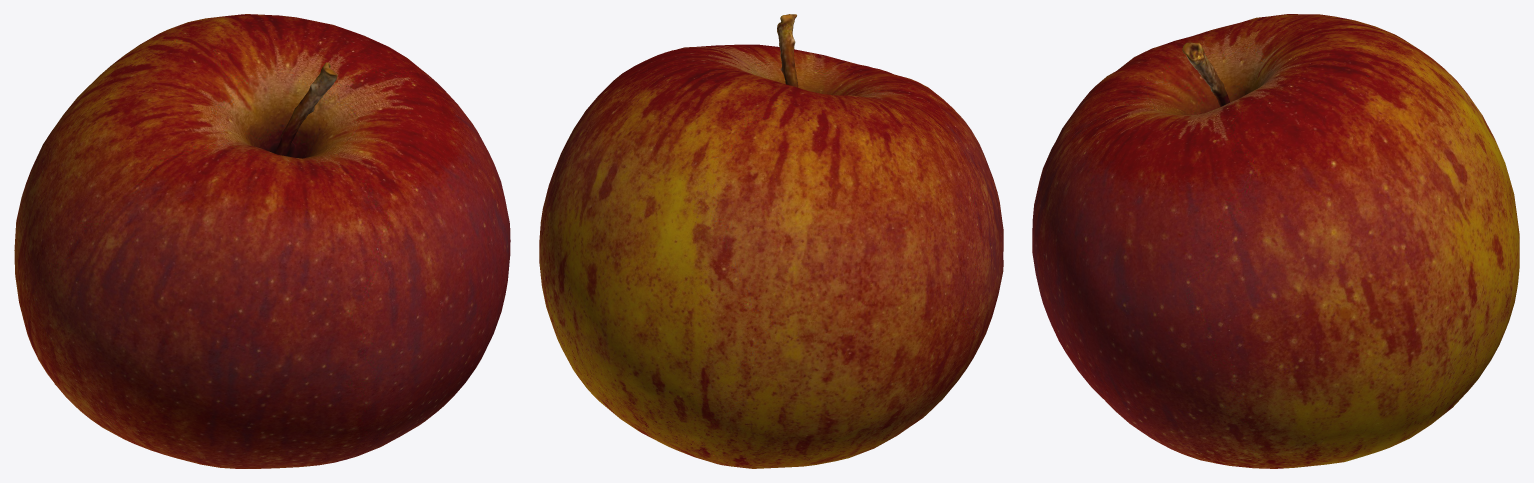
Rendered from food_apple_01_2k.glb.
3 views of the same model, side by side, from view 1: azimuth 30°, elevation 25°; view 2: azimuth 150°, elevation 25°; view 3: azimuth 270°, elevation 25° (orthographic). The views are drawn at different scales.
Parts seen in each view (by area): view 1: food_apple_01; view 2: food_apple_01; view 3: food_apple_01.
Part boxes in pixels (<box>): food_apple_01: <box>14,14,510,468</box>; food_apple_01: <box>539,14,1003,468</box>; food_apple_01: <box>1032,14,1519,468</box>.
Size of the model in its own units: 0.0976 by 0.0854 by 0.0959.
Materials: 1 (1 with a texture image).
